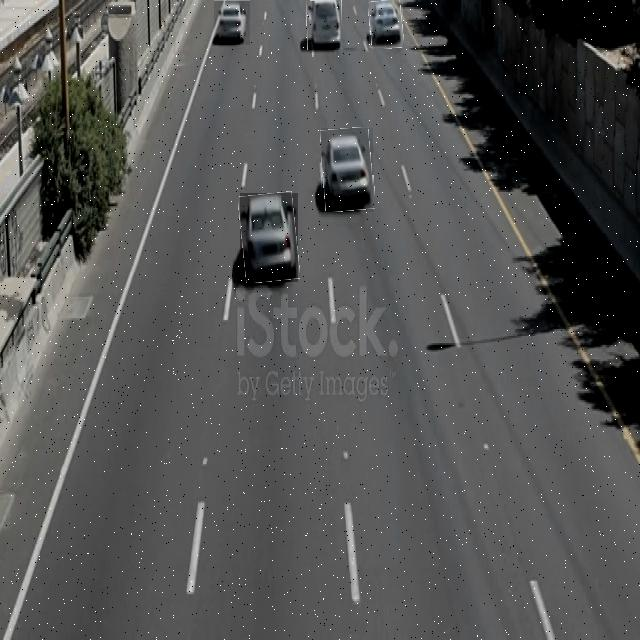Car: (240, 193, 298, 282), (322, 128, 374, 212), (369, 0, 403, 48), (214, 0, 250, 45)
Truck: (306, 0, 342, 50)
